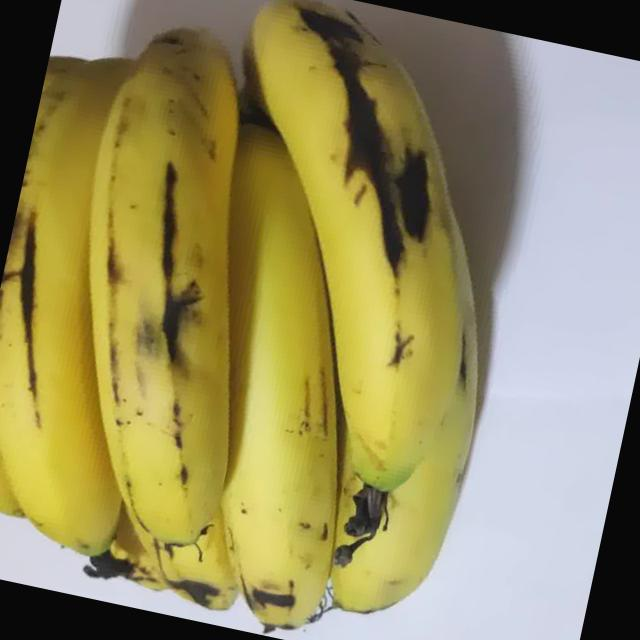banana_pacche: (0, 0, 582, 640)
